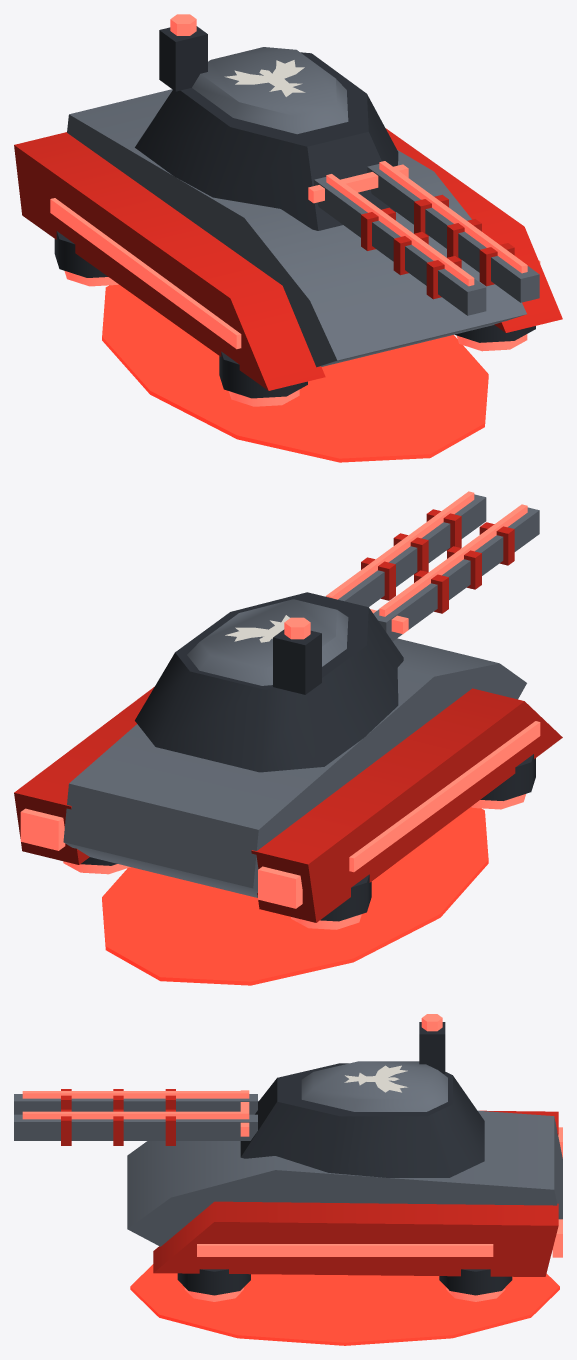
Rendered from assault_dl8_red.glb.
3 renders of one model, top to bottom at view 1: azimuth 30°, elevation 25°; view 2: azimuth 150°, elevation 25°; view 3: azimuth 270°, elevation 25°, orthographic. The views are drawn at different scales.
Visible parts, largest first — view 1: assault_dl8_red; view 2: assault_dl8_red; view 3: assault_dl8_red.
Part boxes in pixels (left/top/right/bottom): assault_dl8_red: left=14, top=14, right=562, bottom=462; assault_dl8_red: left=14, top=491, right=562, bottom=985; assault_dl8_red: left=14, top=1014, right=562, bottom=1345.
Bounding box in the file's own units: 0.324 × 0.316 × 0.63.
3 materials, 1 textured.
